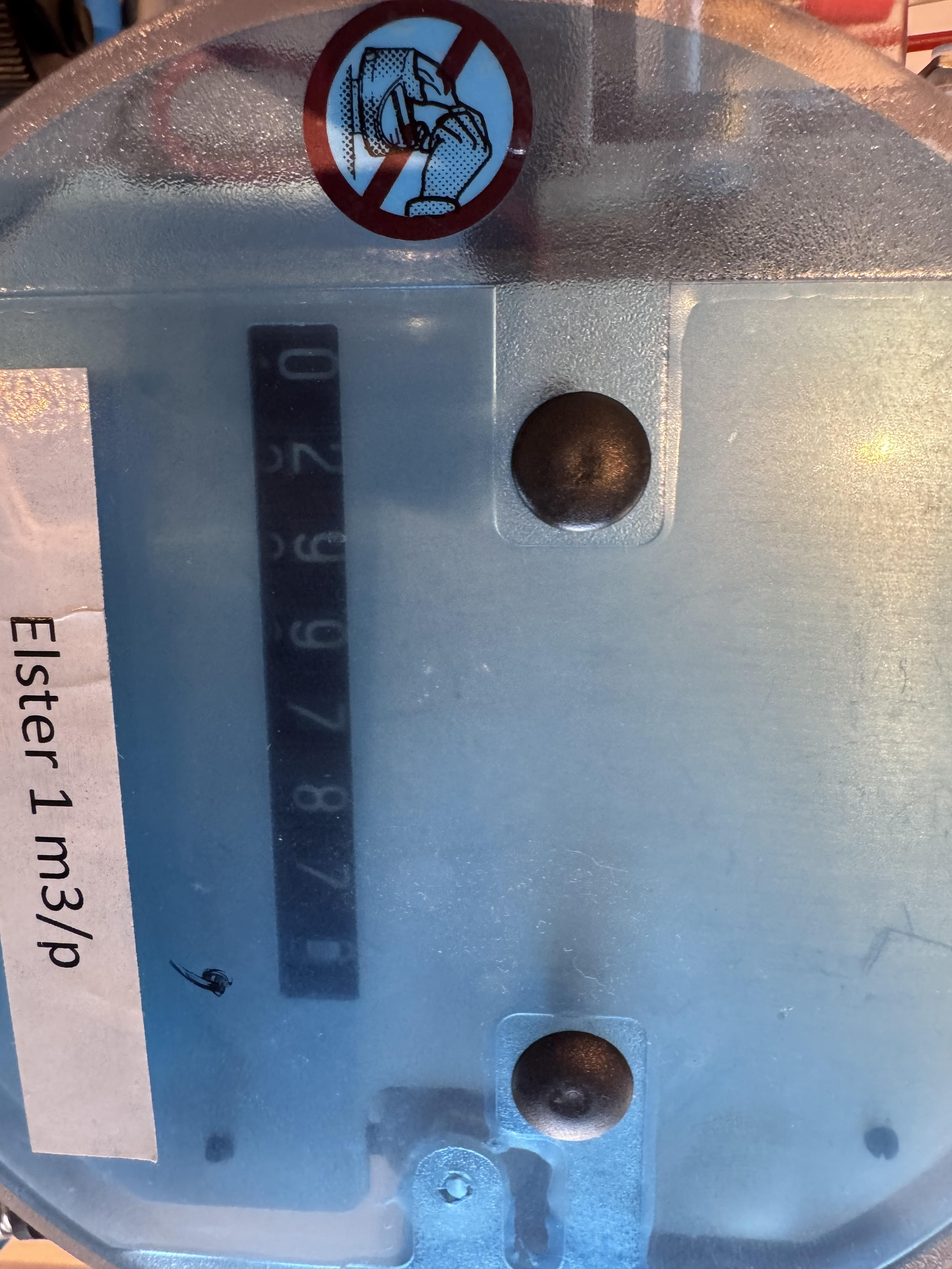analog_dial: (179, 318, 365, 1013)
